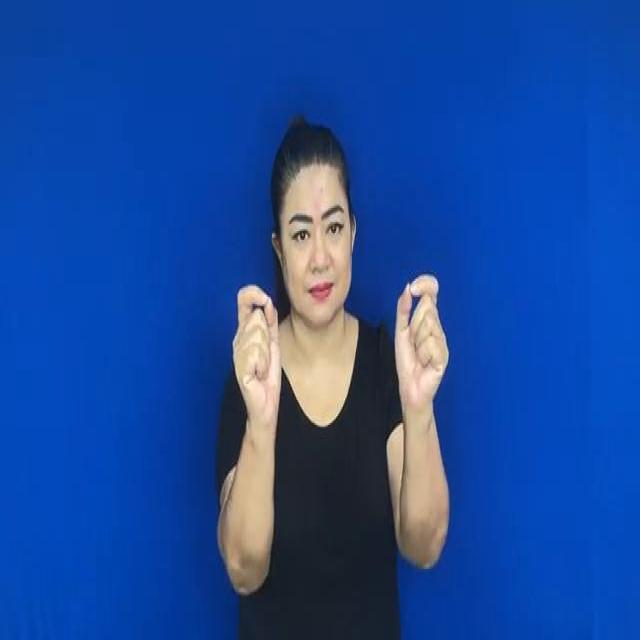crab: (377, 260, 454, 422), (226, 268, 286, 426)
